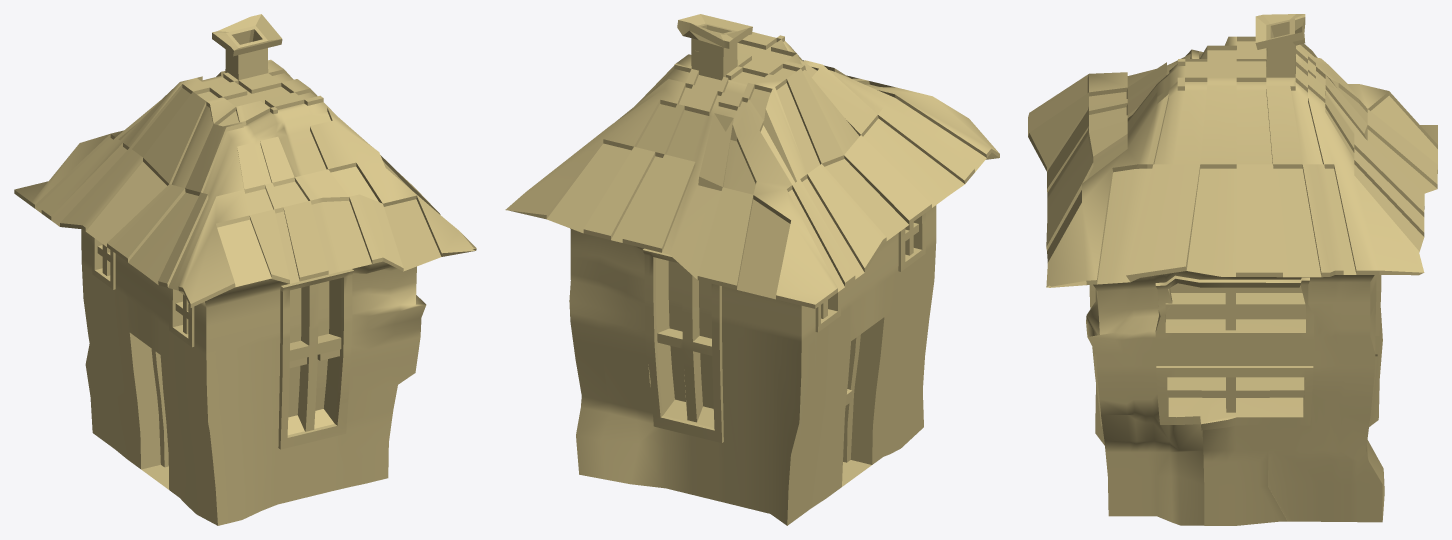
File: Hus1.fbx
3 renders of one model, left to right at view 1: azimuth 30°, elevation 25°; view 2: azimuth 150°, elevation 25°; view 3: azimuth 270°, elevation 25°, orthographic. The views are drawn at different scales.
Visible parts, largest first — view 1: pCube3; view 2: pCube3; view 3: pCube3.
Part boxes in pixels (left/top/right/bottom): pCube3: left=14, top=14, right=476, bottom=525; pCube3: left=505, top=14, right=999, bottom=525; pCube3: left=1028, top=14, right=1437, bottom=525.
Bounding box in the file's own units: 561 × 758 × 603.
